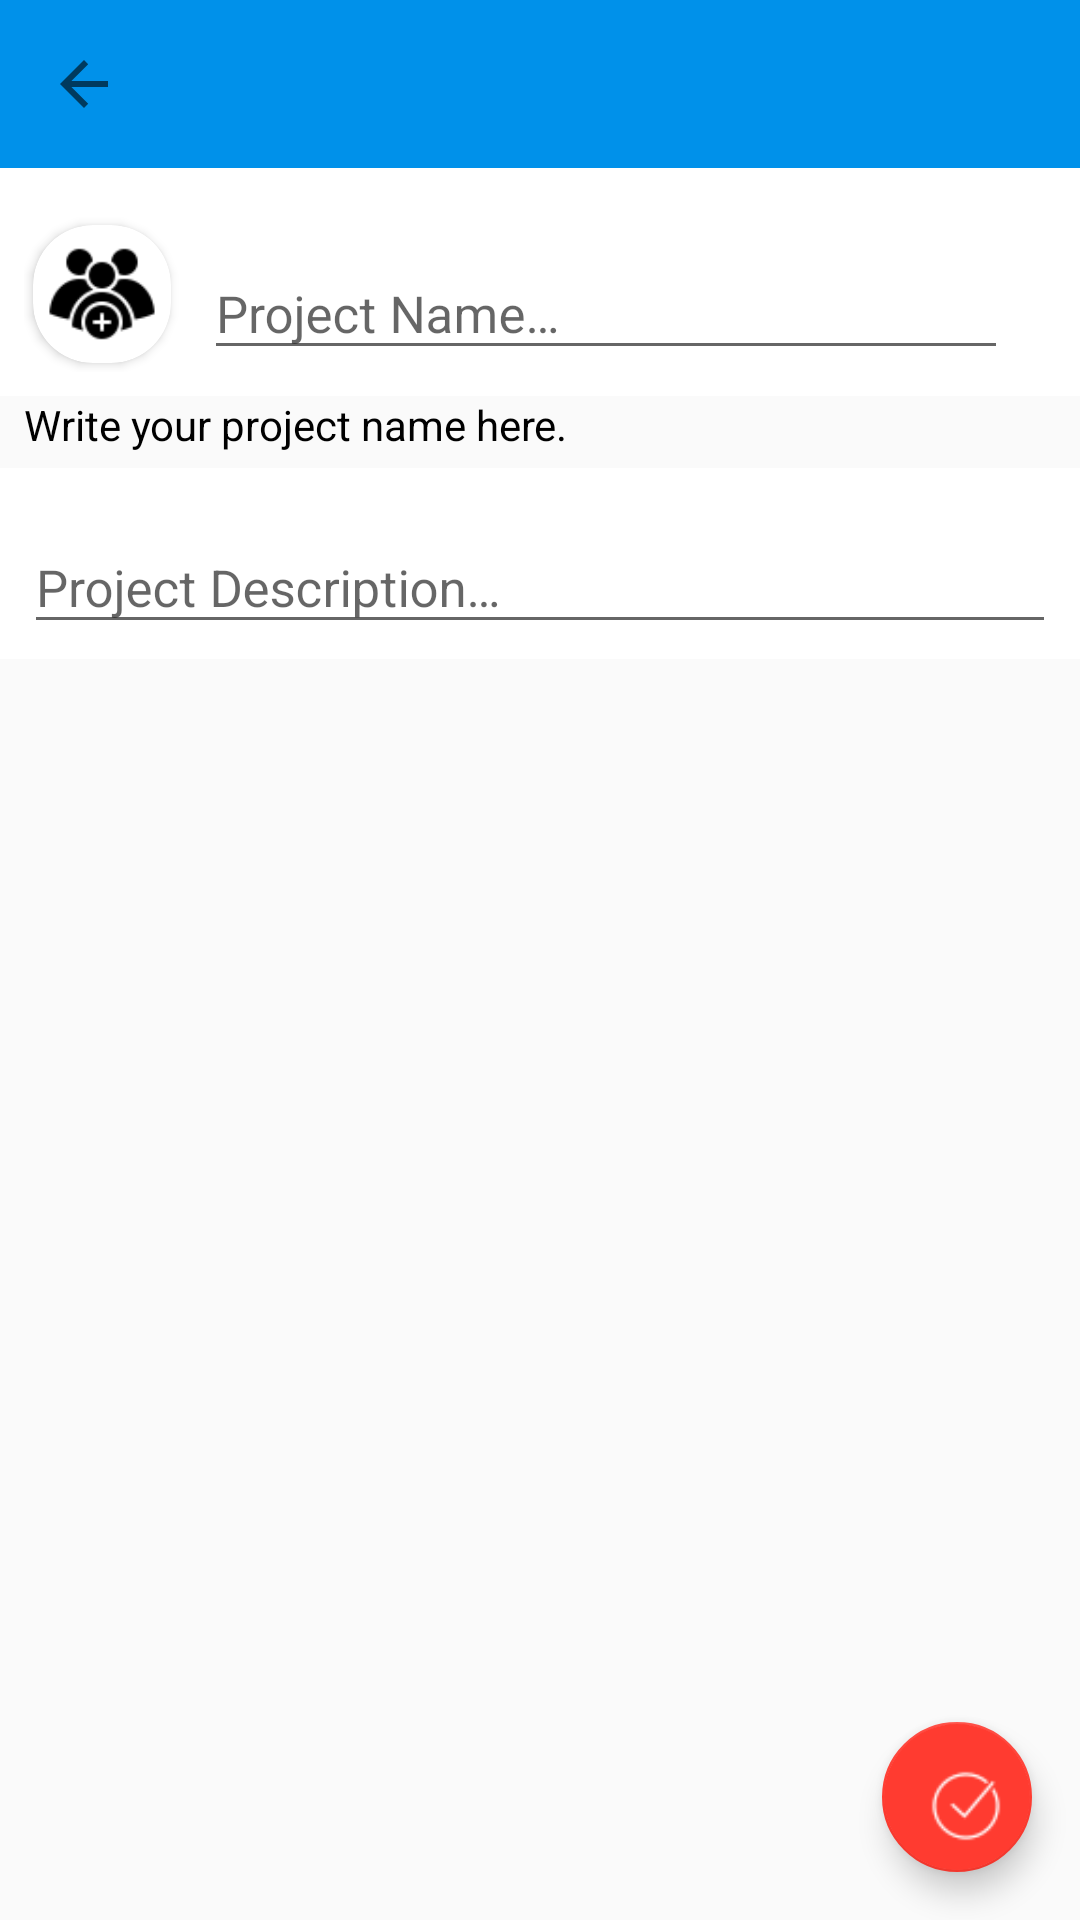

Point at icon controls on the screen. Image size 1080px×1920px, points as (x=x, y=y).
checked: (x=957, y=1797)
